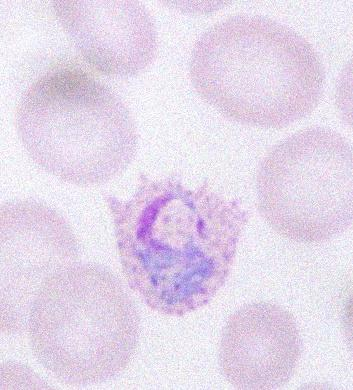Infected: (104, 171, 246, 310)
Uninfected: (192, 13, 323, 126), (16, 69, 141, 185), (28, 261, 139, 386), (0, 197, 85, 333), (257, 127, 353, 238), (216, 302, 300, 390), (56, 0, 156, 71)
